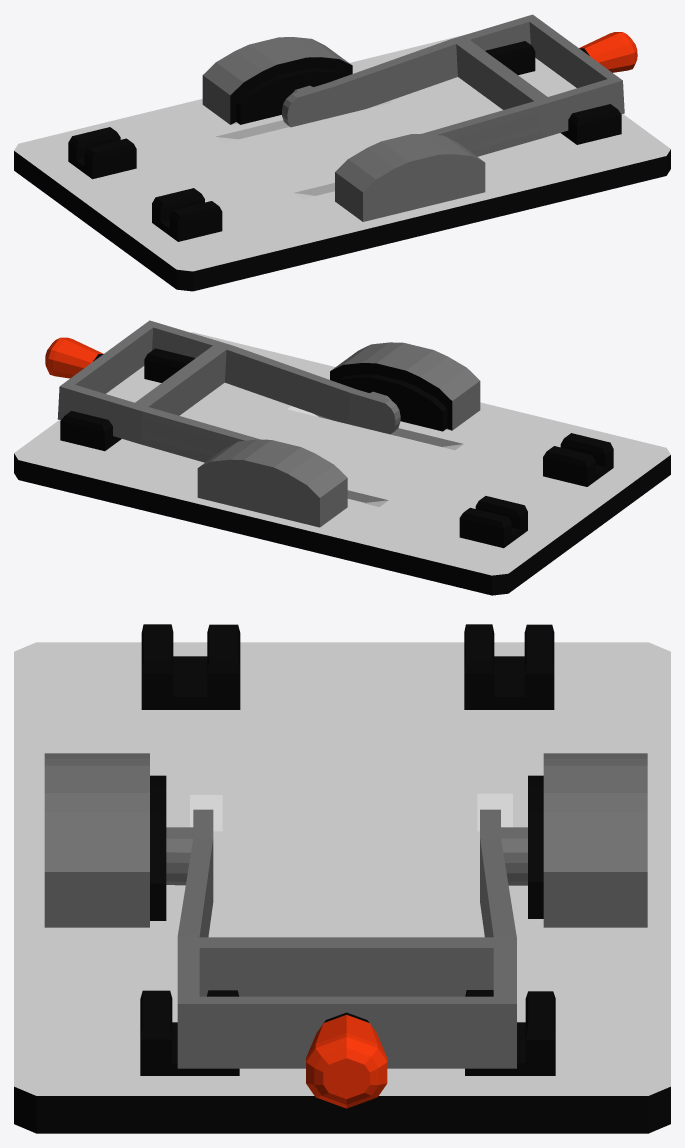
File: cyberLightSwitchON.fbx
The picture shows the model from 3 angles, top to bottom: view 1: azimuth 30°, elevation 25°; view 2: azimuth 150°, elevation 25°; view 3: azimuth 270°, elevation 25°; orthographic projection. The views are drawn at different scales.
Parts seen in each view (by area): view 1: base, Cube; view 2: base, Cube; view 3: base, Cube.
Boxes of the visible parts, x1,y1,x2,y2 form: base: (14, 35, 670, 291); Cube: (282, 14, 637, 156); base: (14, 332, 670, 595); Cube: (45, 320, 400, 462); base: (14, 624, 670, 1133); Cube: (166, 809, 527, 1108).
Bounding box in the file's own units: 65.24 × 7.99 × 36.7.
